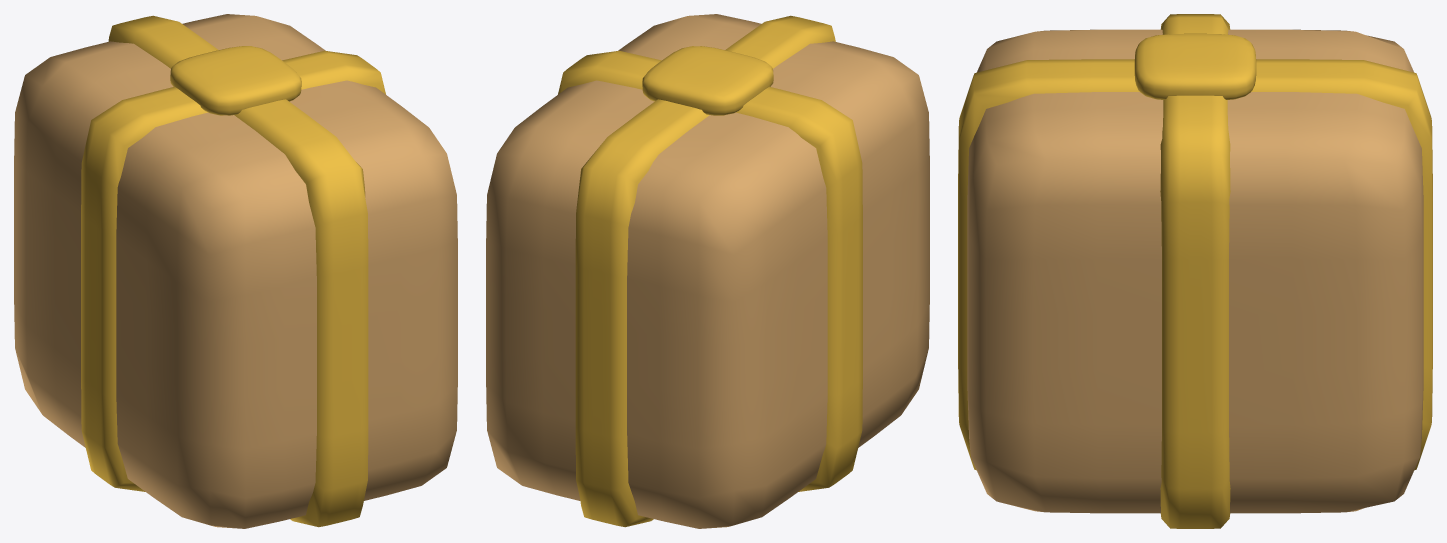
The model's file is courier-parcel.fit.glb.
3 views of the same model, side by side, from view 1: azimuth 30°, elevation 25°; view 2: azimuth 150°, elevation 25°; view 3: azimuth 270°, elevation 25° (orthographic). The views are drawn at different scales.
Visible parts, largest first — view 1: courier-parcel; view 2: courier-parcel; view 3: courier-parcel.
Boxes of the visible parts, x1,y1,x2,y2 form: courier-parcel: (14, 14, 457, 528); courier-parcel: (486, 14, 929, 528); courier-parcel: (958, 14, 1432, 528).
Size of the model in its own units: 0.232 by 0.304 by 0.312.
